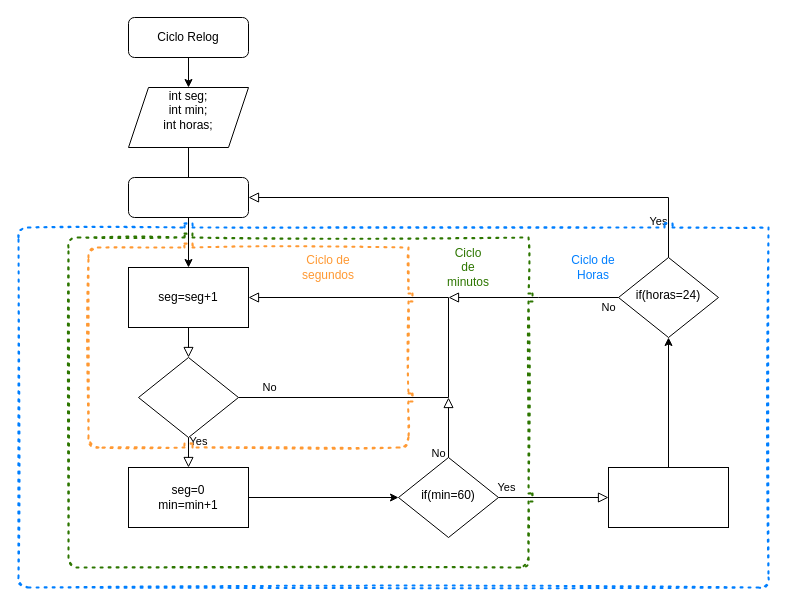
The diagram is 787 pixels wide and 607 high, and some of its shapes have lost their labels. Each missing label, with the centre of its shape:
if(seg=60): the point at 188,397
min=0 horas=horas+1: the point at 668,497
Un Nuevo Dia De Verano: the point at 188,197
